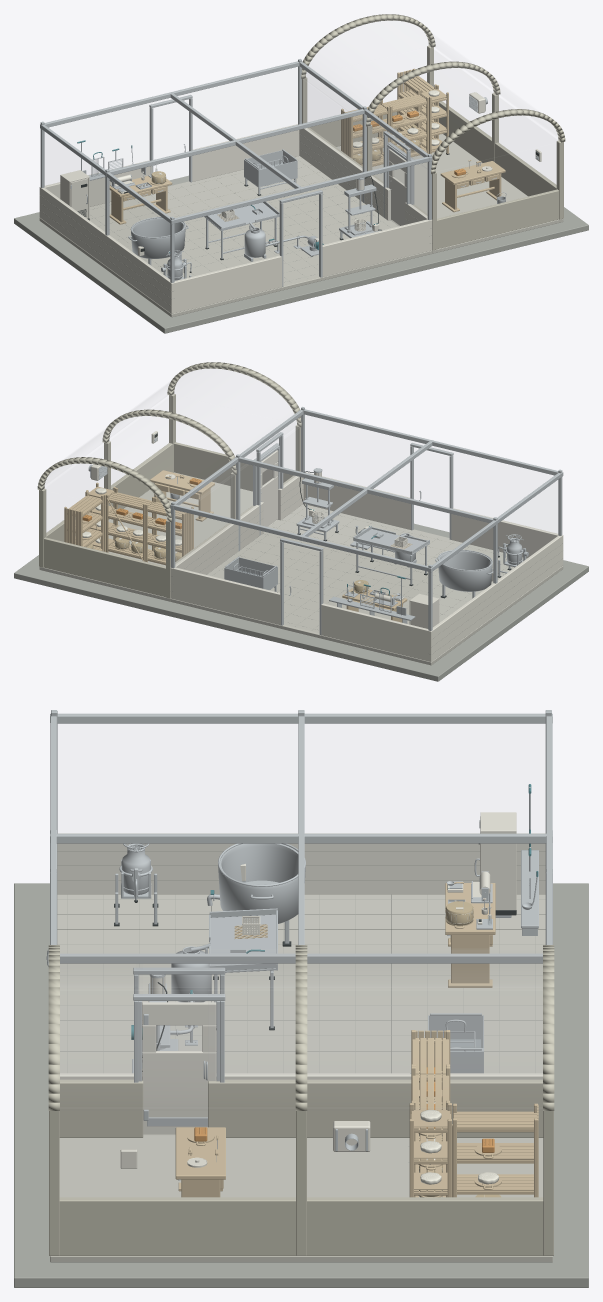
The picture shows the model from 3 angles, top to bottom: view 1: azimuth 30°, elevation 25°; view 2: azimuth 150°, elevation 25°; view 3: azimuth 270°, elevation 25°; orthographic projection. The views are drawn at different scales.
Parts seen in each view (by area): view 1: 001-roofed-dairy-make-room/3, 001-roofed-dairy-make-room/2, 001-roofed-dairy-make-room/0, 002-vaulted-aging-cellar/1, 002-vaulted-aging-cellar/2, 001-roofed-dairy-make-room/1, 000-dairy-courtyard-base/0, 002-vaulted-aging-cellar/0, 007-jacketed-cheese-vat/0, 078-cheese-wrapping-bench/0, 008-draining-table/0, 022-brine-bath/0 (+10 smaller); view 2: 001-roofed-dairy-make-room/3, 001-roofed-dairy-make-room/2, 001-roofed-dairy-make-room/0, 002-vaulted-aging-cellar/1, 002-vaulted-aging-cellar/2, 001-roofed-dairy-make-room/1, 000-dairy-courtyard-base/0, 002-vaulted-aging-cellar/0, 007-jacketed-cheese-vat/0, 041-aging-shelf-straight/0, 043-aging-shelf-end/0, 040-aging-shelf-end/0 (+9 smaller); view 3: 002-vaulted-aging-cellar/2, 001-roofed-dairy-make-room/0, 002-vaulted-aging-cellar/1, 001-roofed-dairy-make-room/3, 000-dairy-courtyard-base/0, 001-roofed-dairy-make-room/1, 002-vaulted-aging-cellar/0, 001-roofed-dairy-make-room/2, 003-insulated-cellar-door/2, 007-jacketed-cheese-vat/0, 001-roofed-dairy-make-room/4, 043-aging-shelf-end/0 (+14 smaller).
Boxes of the visible parts, x1,y1,x2,y2 form: 001-roofed-dairy-make-room/3: [45, 67, 426, 225]; 001-roofed-dairy-make-room/2: [39, 124, 432, 313]; 001-roofed-dairy-make-room/0: [39, 156, 432, 317]; 002-vaulted-aging-cellar/1: [301, 14, 565, 250]; 002-vaulted-aging-cellar/2: [309, 21, 557, 185]; 001-roofed-dairy-make-room/1: [40, 59, 432, 286]; 000-dairy-courtyard-base/0: [14, 175, 588, 333]; 002-vaulted-aging-cellar/0: [336, 134, 563, 253]; 007-jacketed-cheese-vat/0: [128, 217, 188, 265]; 078-cheese-wrapping-bench/0: [440, 161, 505, 212]; 008-draining-table/0: [204, 201, 279, 258]; 022-brine-bath/0: [244, 149, 297, 194]; 001-roofed-dairy-make-room/3: [176, 415, 557, 563]; 001-roofed-dairy-make-room/2: [170, 472, 563, 661]; 001-roofed-dairy-make-room/0: [170, 504, 563, 665]; 002-vaulted-aging-cellar/1: [37, 362, 301, 598]; 002-vaulted-aging-cellar/2: [45, 369, 293, 533]; 001-roofed-dairy-make-room/1: [170, 407, 563, 634]; 000-dairy-courtyard-base/0: [14, 523, 588, 681]; 002-vaulted-aging-cellar/0: [39, 472, 277, 601]; 007-jacketed-cheese-vat/0: [435, 549, 493, 598]; 041-aging-shelf-straight/0: [106, 488, 154, 561]; 043-aging-shelf-end/0: [64, 491, 103, 551]; 040-aging-shelf-end/0: [145, 497, 193, 565]; 002-vaulted-aging-cellar/2: [60, 950, 542, 1134]; 001-roofed-dairy-make-room/0: [57, 894, 545, 1134]; 002-vaulted-aging-cellar/1: [48, 945, 554, 1255]; 001-roofed-dairy-make-room/3: [58, 724, 544, 832]; 000-dairy-courtyard-base/0: [14, 883, 588, 1287]; 001-roofed-dairy-make-room/1: [46, 710, 552, 993]; 002-vaulted-aging-cellar/0: [50, 1135, 552, 1262]; 001-roofed-dairy-make-room/2: [57, 833, 545, 1079]; 003-insulated-cellar-door/2: [142, 1002, 216, 1134]; 007-jacketed-cheese-vat/0: [207, 843, 305, 943]; 001-roofed-dairy-make-room/4: [57, 851, 545, 1073]; 043-aging-shelf-end/0: [452, 1103, 538, 1197].
Size of the model in its own units: 13 by 3.79 by 8.
